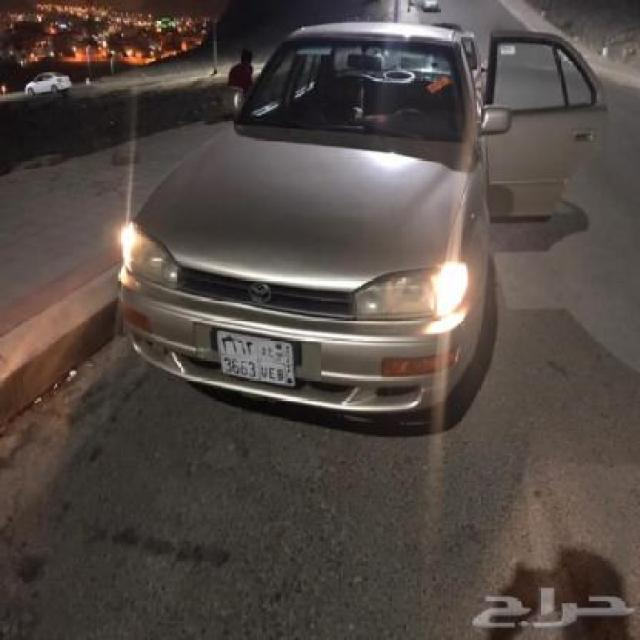license_plate: (215, 328, 298, 392)
